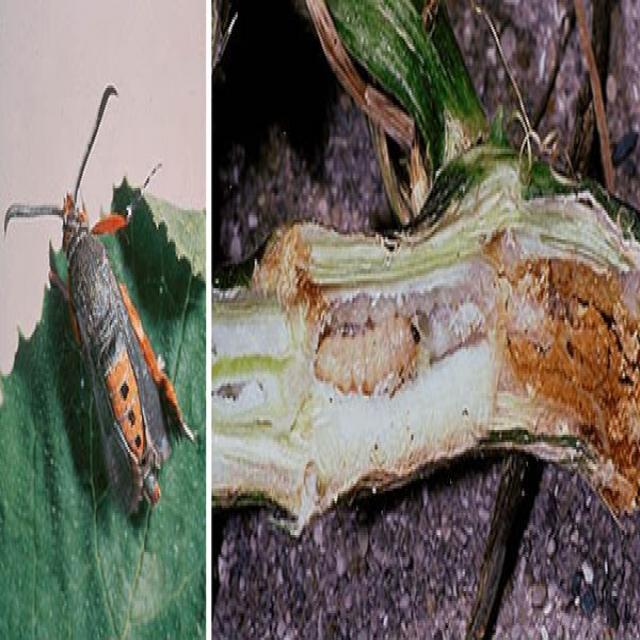cornborer-Larva-: (301, 301, 427, 403)
